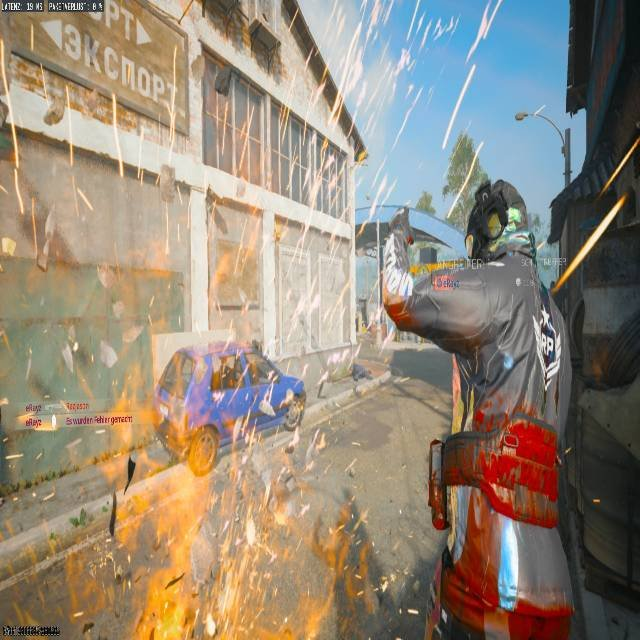player: (357, 170, 640, 635)
